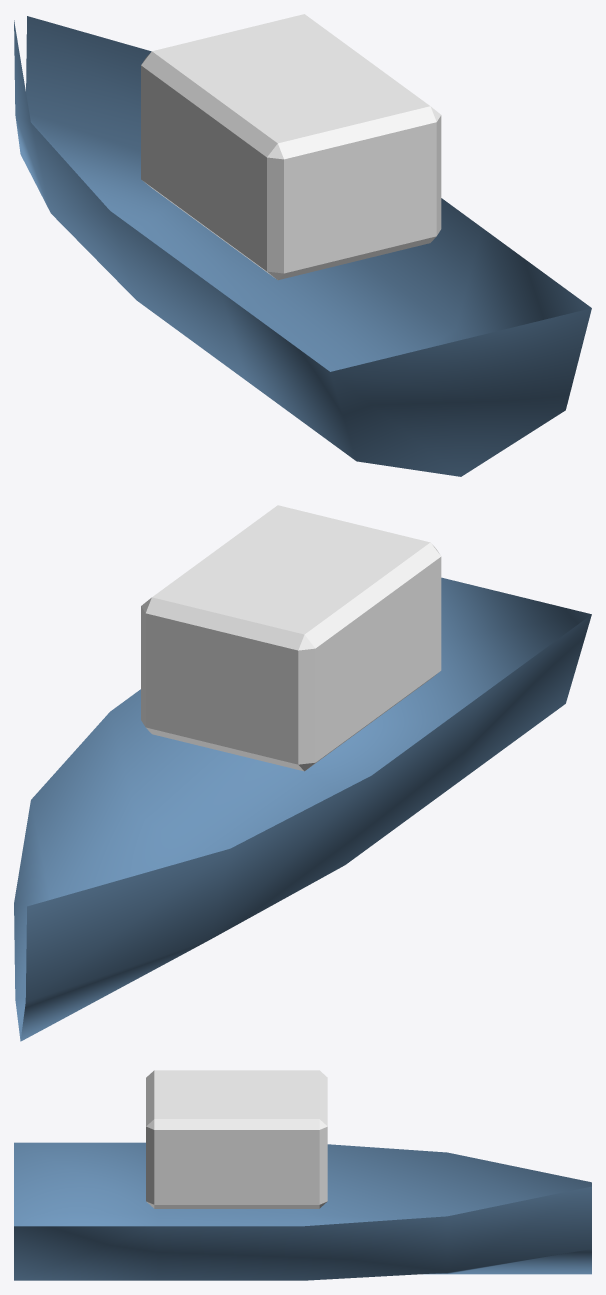
File: boat.glb
The picture shows the model from 3 angles, top to bottom: view 1: azimuth 30°, elevation 25°; view 2: azimuth 150°, elevation 25°; view 3: azimuth 270°, elevation 25°; orthographic projection. The views are drawn at different scales.
Parts seen in each view (by area): view 1: boat; view 2: boat; view 3: boat.
Boxes of the visible parts, x1=… form: boat: x1=14, y1=14, x2=591, y2=476; boat: x1=14, y1=505, x2=591, y2=1041; boat: x1=14, y1=1070, x2=591, y2=1280.
Bounding box in the file's own units: 2.4 × 2.4 × 7.
